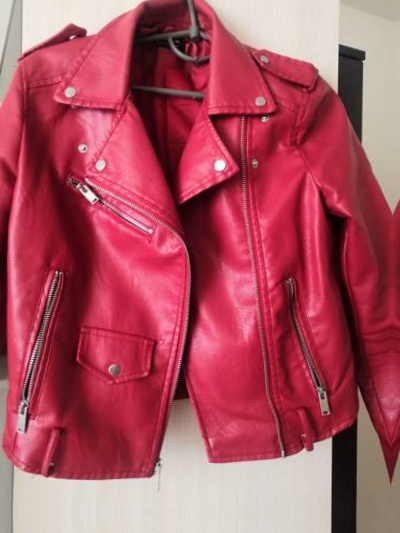Blazer: (0, 1, 395, 472), (391, 4, 400, 475)
